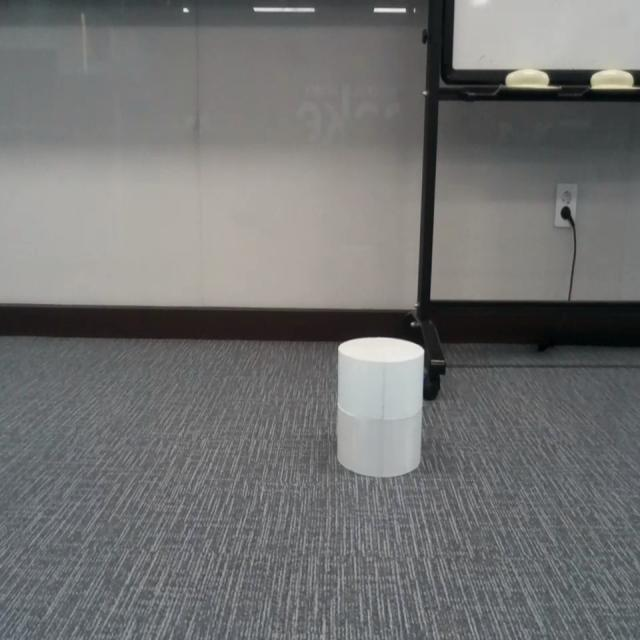cylinder: (336, 336, 425, 478)
